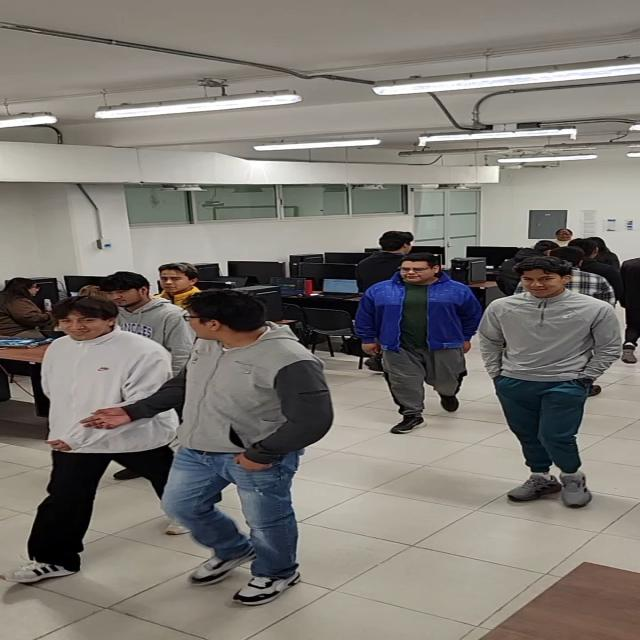Persona: (166, 295, 314, 588), (482, 260, 607, 508), (33, 305, 170, 528), (372, 253, 469, 417), (104, 275, 178, 332), (159, 258, 210, 298)
